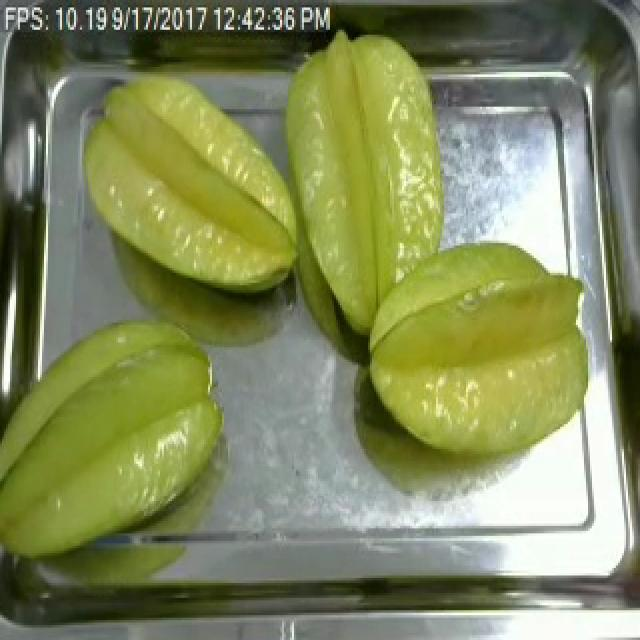fruit: (260, 20, 458, 355), (0, 300, 242, 573), (350, 231, 600, 471), (68, 65, 312, 305)
